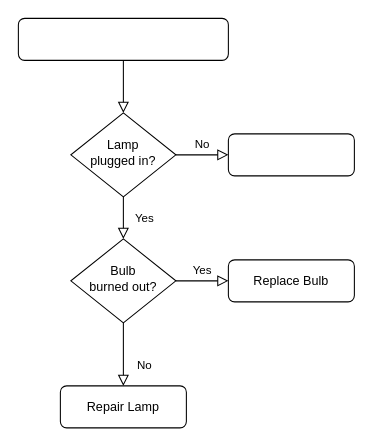
Some shapes in this 373 by 446 pixel diagram are drawn without their labels. The centre of each missing label's shape, as x and y in pixels:
"buttonFileLeaveRequestEvent" goes at point 122,38.
"Plug in lamp" goes at point 290,154.
